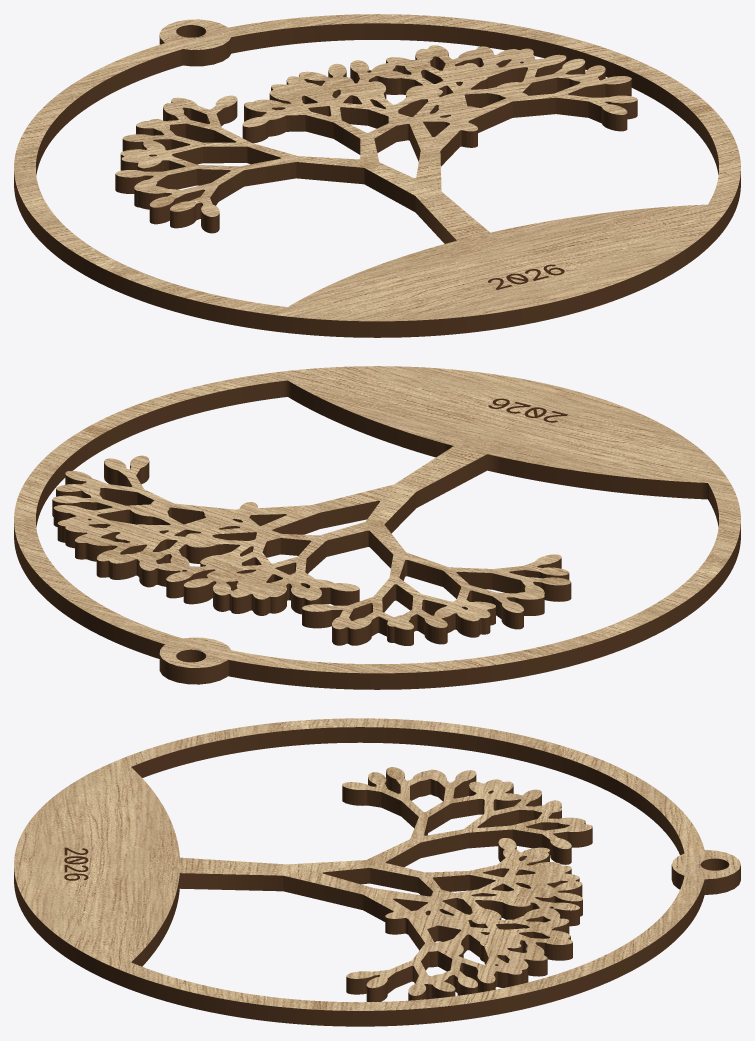
File: fractal-tree.glb
3 renders of one model, top to bottom at view 1: azimuth 30°, elevation 25°; view 2: azimuth 150°, elevation 25°; view 3: azimuth 270°, elevation 25°, orthographic. The views are drawn at different scales.
Parts seen in each view (by area): view 1: body0; view 2: body0; view 3: body0.
Part boxes in pixels (bbox=[...]): body0: bbox=[14, 14, 740, 337]; body0: bbox=[14, 366, 740, 689]; body0: bbox=[14, 718, 740, 1026].
Bounding box in the file's own units: 0.12 × 0.00306 × 0.126.
Materials: 3 (1 with a texture image).
